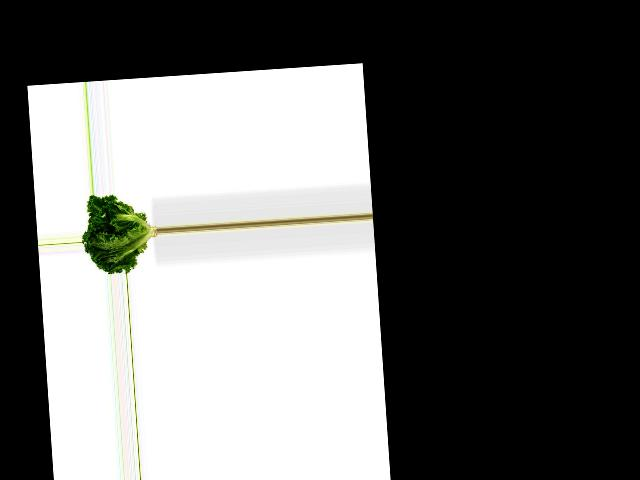lettuce: (80, 191, 159, 276)
